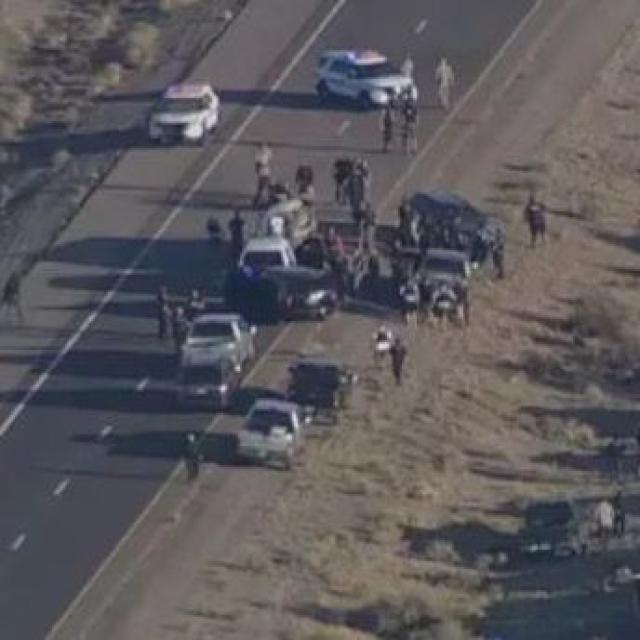traffic_incident: (214, 180, 497, 356)
